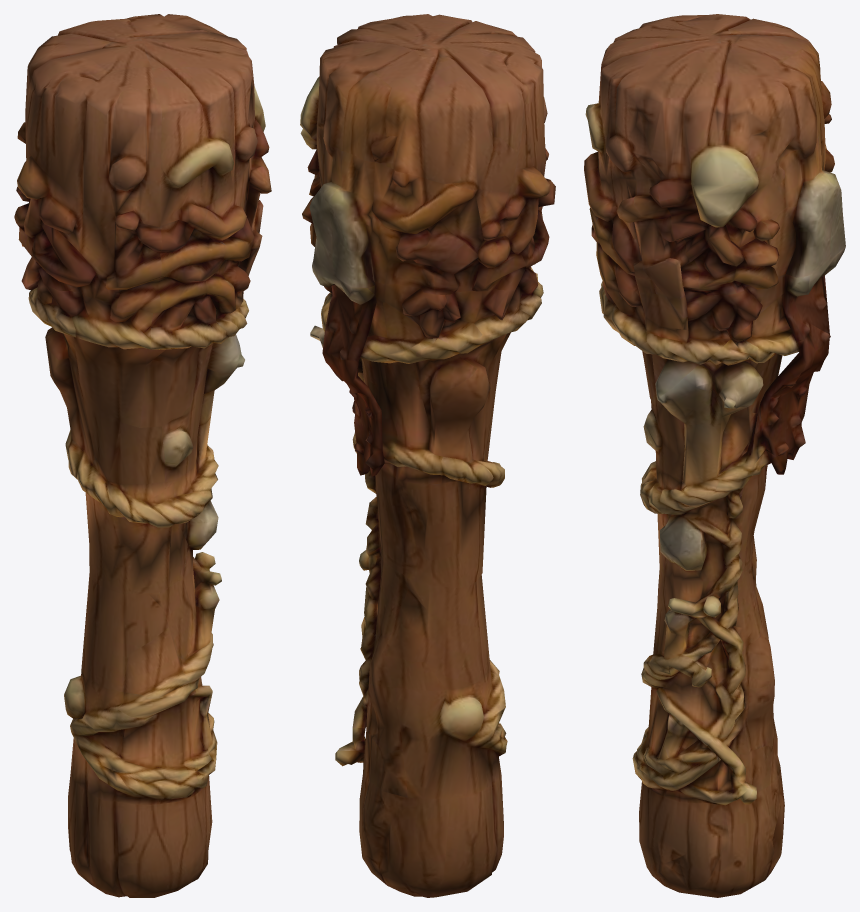
File: garrote.glb
The picture shows the model from 3 angles, left to right: view 1: azimuth 30°, elevation 25°; view 2: azimuth 150°, elevation 25°; view 3: azimuth 270°, elevation 25°; orthographic projection.
Parts seen in each view (by area): view 1: tripo_node_adb7d8e7-54b0-4138-bce6-a7443b790877; view 2: tripo_node_adb7d8e7-54b0-4138-bce6-a7443b790877; view 3: tripo_node_adb7d8e7-54b0-4138-bce6-a7443b790877.
Part boxes in pixels (box(x1,y1,x2,y2)): tripo_node_adb7d8e7-54b0-4138-bce6-a7443b790877: box(14, 14, 271, 897); tripo_node_adb7d8e7-54b0-4138-bce6-a7443b790877: box(300, 14, 555, 897); tripo_node_adb7d8e7-54b0-4138-bce6-a7443b790877: box(584, 14, 845, 897).
Size of the model in its own units: 0.2982 by 0.9995 by 0.283.
Materials: 1 (1 with a texture image).
